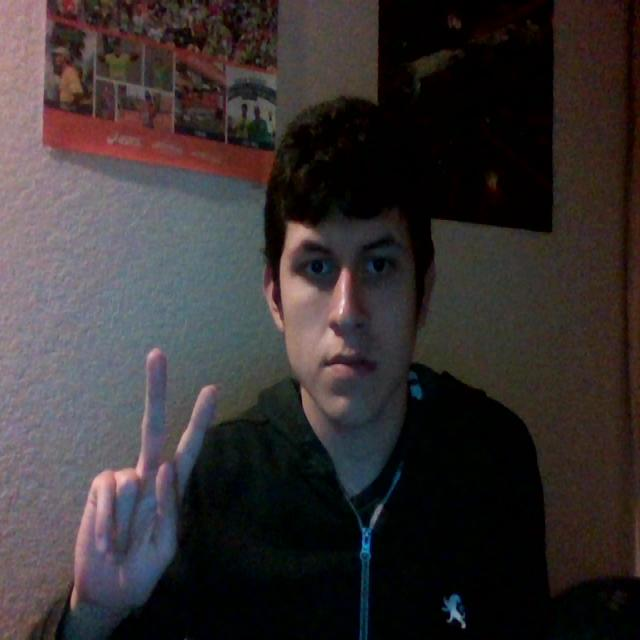K: (55, 318, 273, 632)
